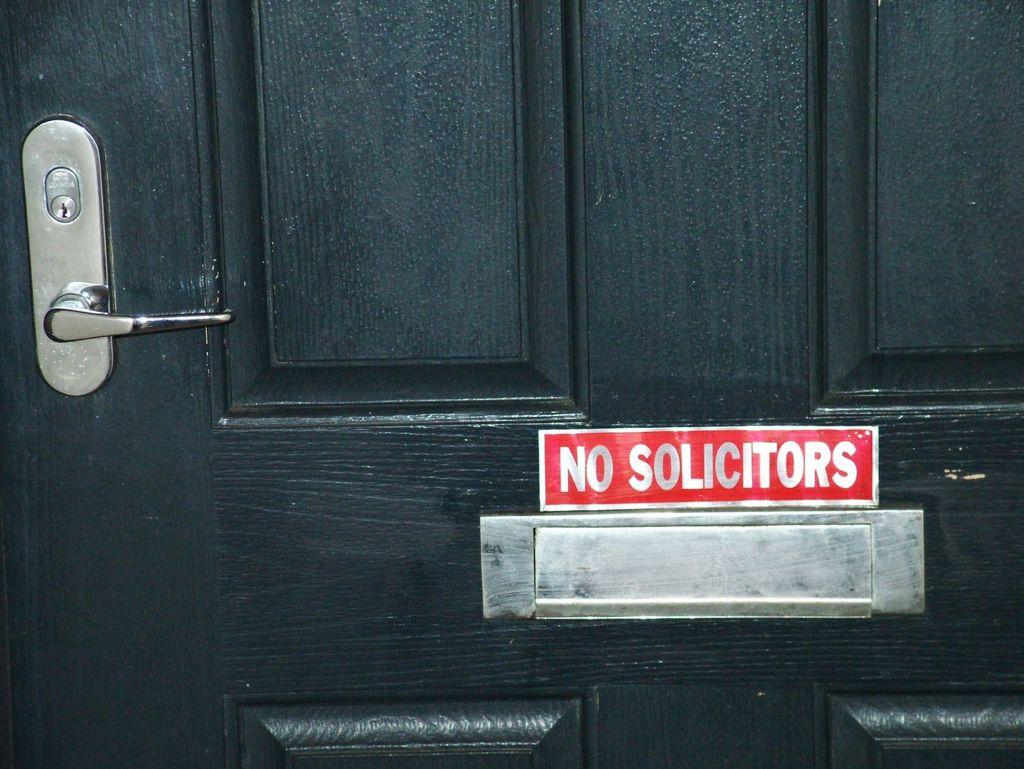handle: (56, 276, 238, 356)
